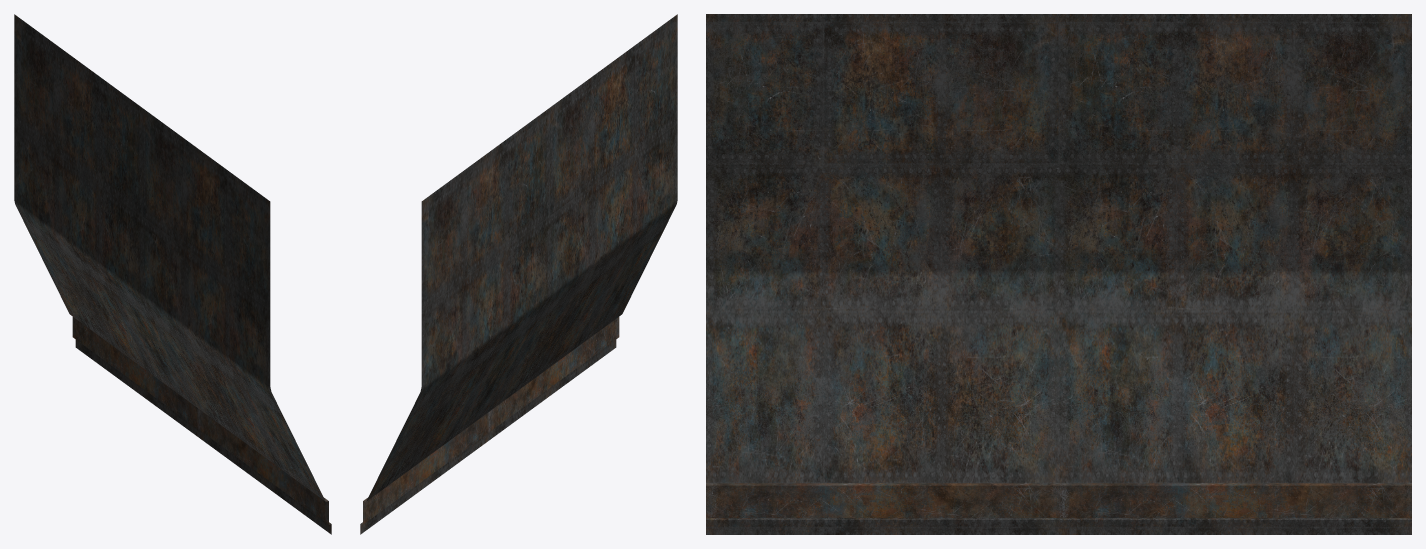
Rendered from Basement_Corridor_C_Wall_4m_Cruved.glb.
3 views of the same model, side by side, from view 1: azimuth 30°, elevation 25°; view 2: azimuth 150°, elevation 25°; view 3: azimuth 270°, elevation 25° (orthographic). The views are drawn at different scales.
Visible parts, largest first — view 1: Basement_Corridor_C_Wall_4m_Cruved; view 2: Basement_Corridor_C_Wall_4m_Cruved; view 3: Basement_Corridor_C_Wall_4m_Cruved.
Part boxes in pixels (left/top/right/bottom): Basement_Corridor_C_Wall_4m_Cruved: left=14, top=14, right=331, bottom=534; Basement_Corridor_C_Wall_4m_Cruved: left=360, top=14, right=677, bottom=534; Basement_Corridor_C_Wall_4m_Cruved: left=706, top=14, right=1411, bottom=534.
Bounding box in the file's own units: 0.5532 × 3 × 4.
Materials: 2 (2 with a texture image).
